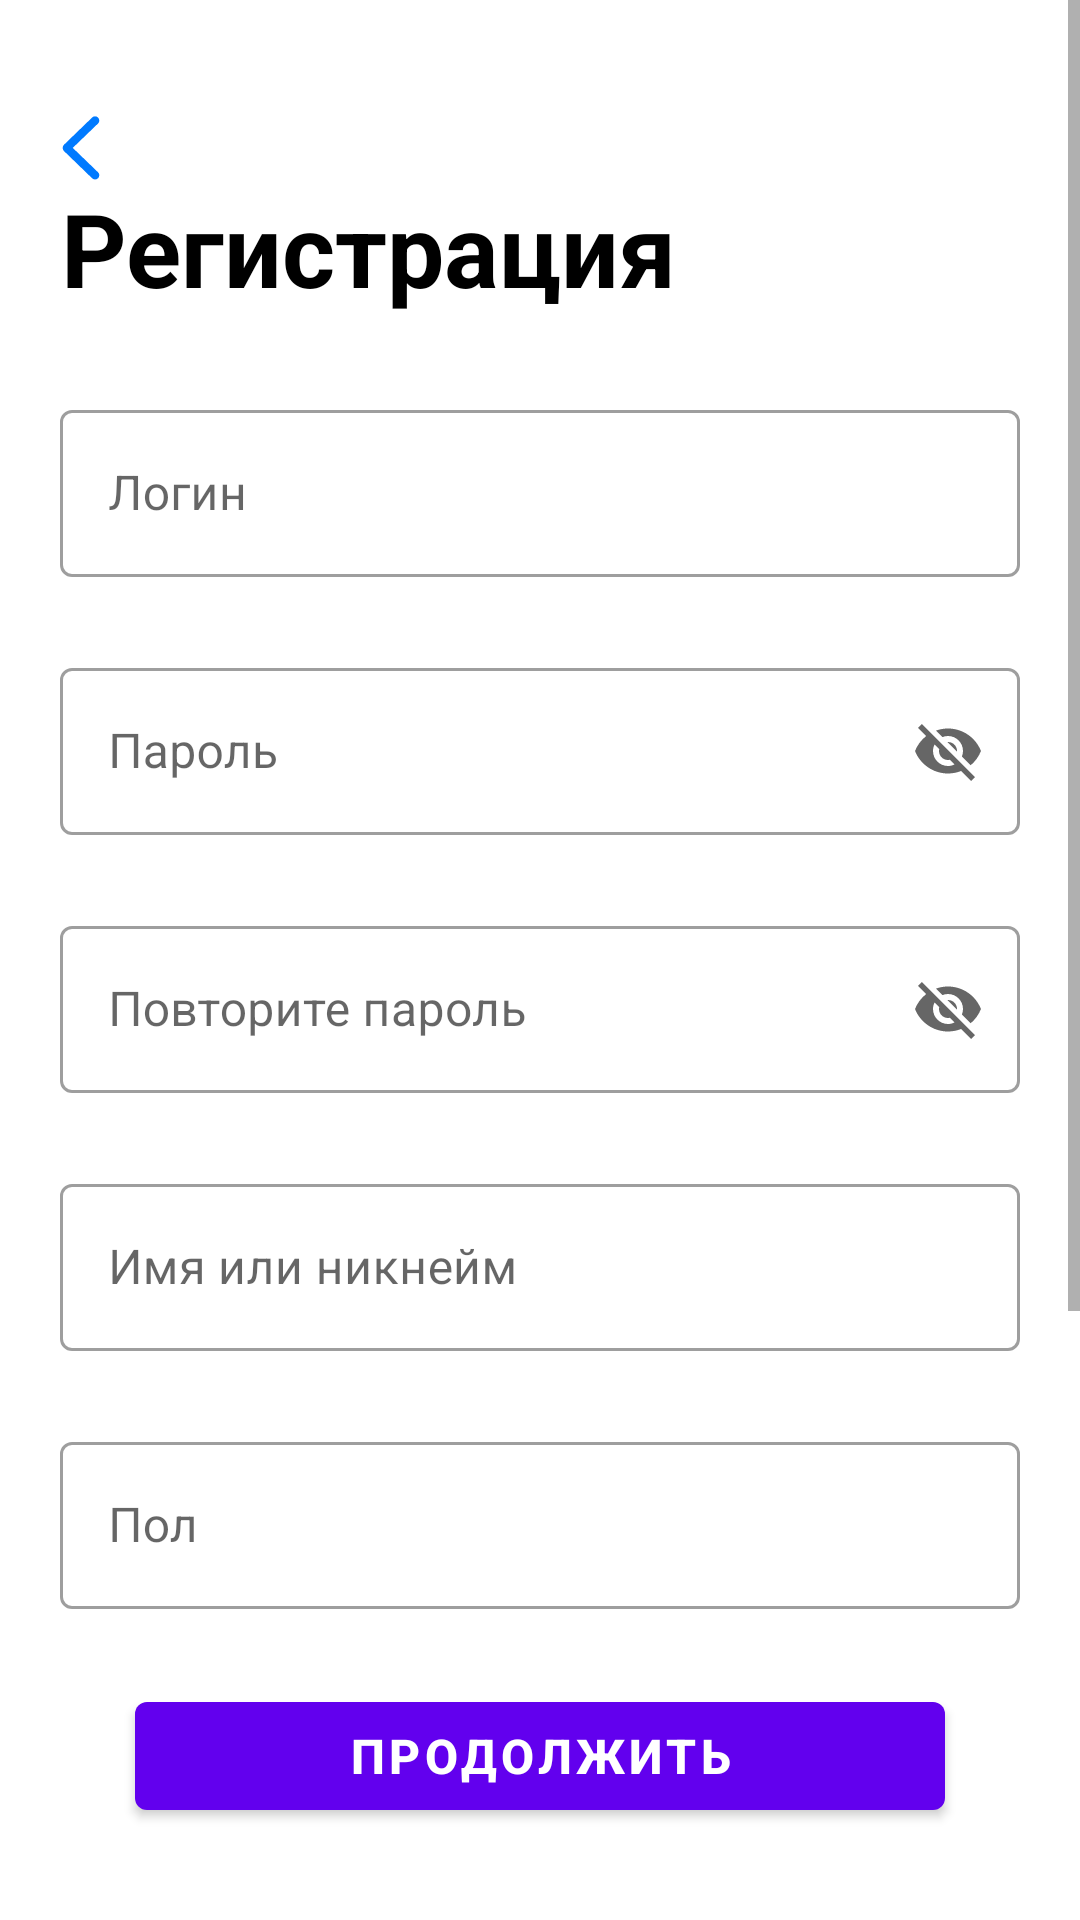

Screen size 1080×1920. Icon name, then its center in pixels as (x,y):
arrow back: (81,148)
